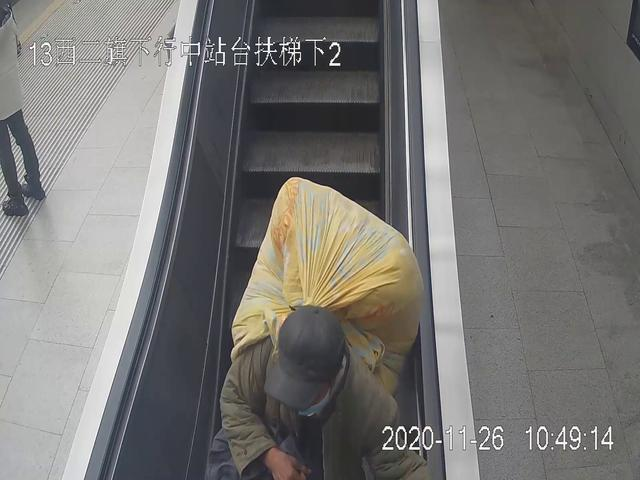person: (205, 177, 425, 480)
